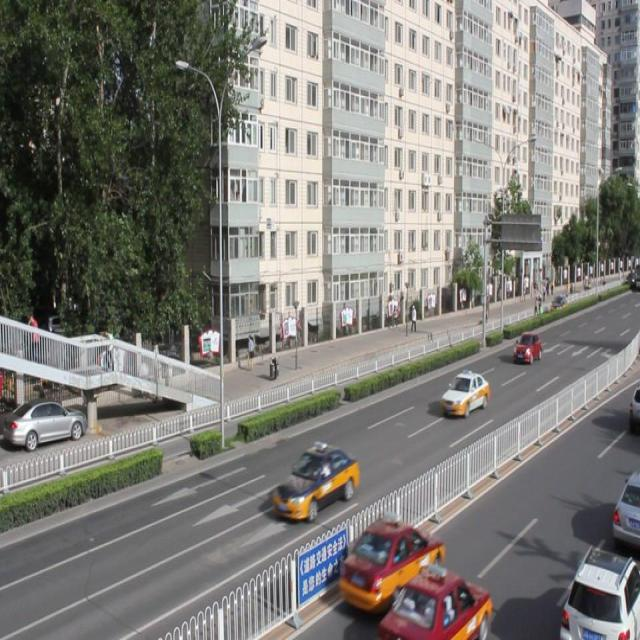car: (337, 511, 443, 610), (379, 562, 489, 640), (558, 544, 640, 640), (274, 444, 356, 518), (440, 370, 488, 418), (610, 468, 640, 542), (512, 329, 542, 362)
